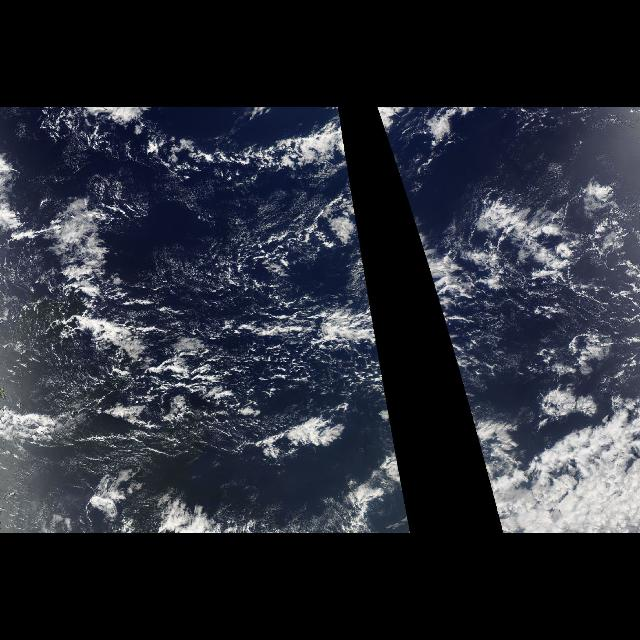Gravel: (18, 237, 348, 411), (459, 167, 621, 327)
